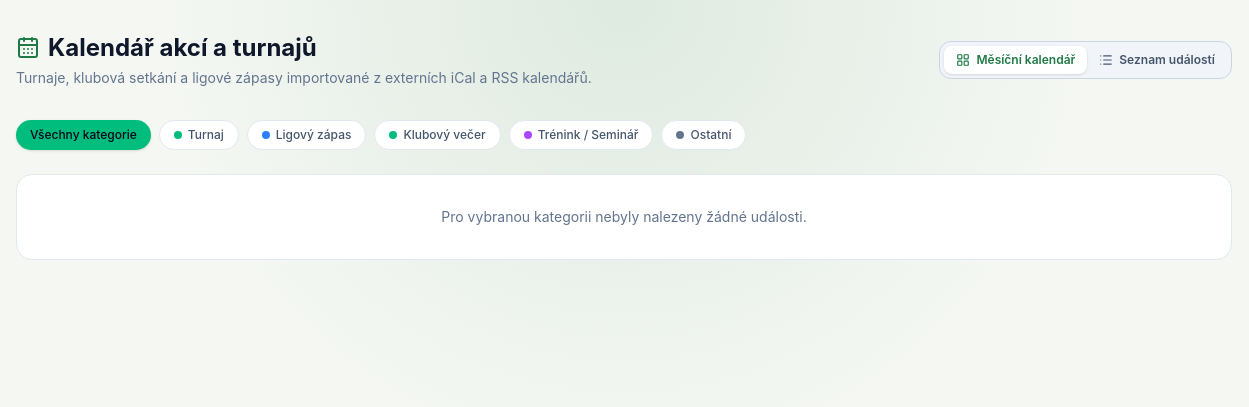
Scenario: CalendarView › renders events from the mocked GET /calendar/events in list view
The image size is (1249, 407).
Click the button "Seznam událostí": (1157, 60) [1087,46,1227,74]
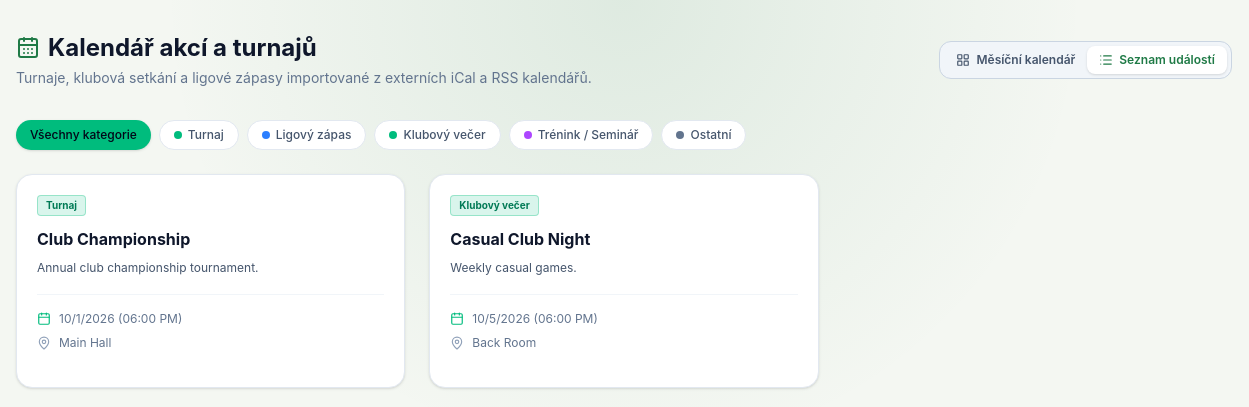
expect the heading "Club Championship" is shown: met, box [37,229,190,249]
expect the heading "Casual Club Night" is shown: met, box [450,229,590,249]
